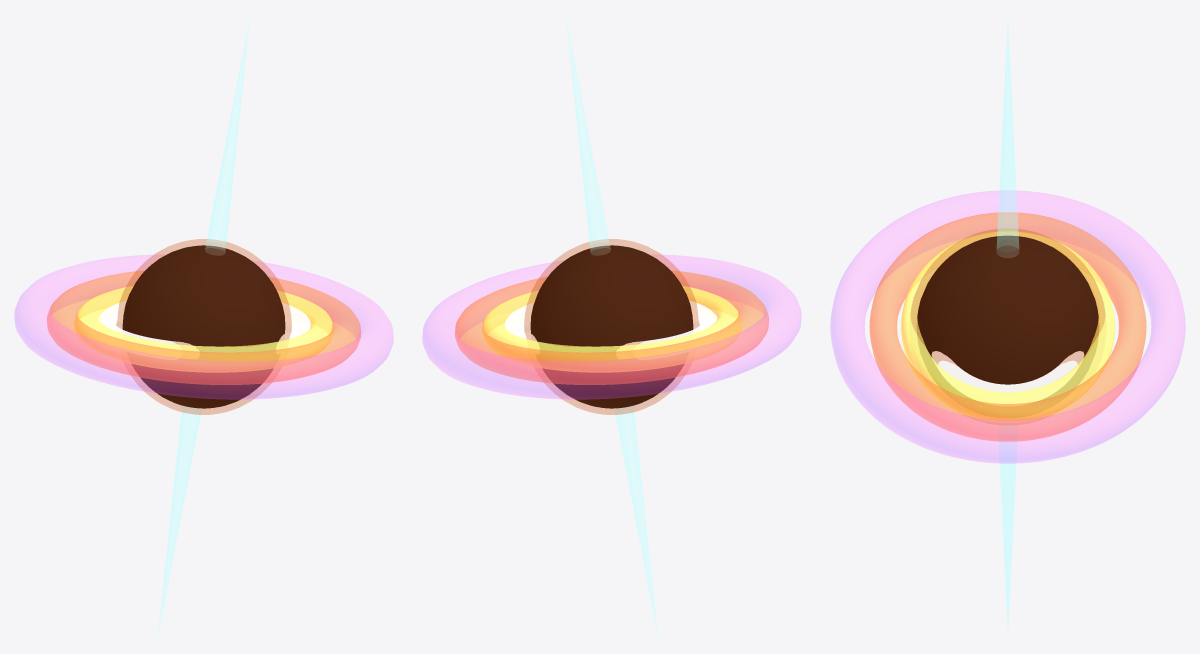
Rendered from blackhole.glb.
The picture shows the model from 3 angles, left to right: view 1: azimuth 30°, elevation 25°; view 2: azimuth 150°, elevation 25°; view 3: azimuth 270°, elevation 25°; orthographic projection. The views are drawn at different scales.
Visible parts, largest first — view 1: Accretion_Ring_4, Photon_Sphere, Event_Horizon, Accretion_Ring_3, Accretion_Ring_2, North_Energy_Jet, South_Energy_Jet, Accretion_Ring_1; view 2: Accretion_Ring_4, Photon_Sphere, Event_Horizon, Accretion_Ring_3, Accretion_Ring_2, North_Energy_Jet, South_Energy_Jet, Accretion_Ring_1; view 3: Accretion_Ring_4, Photon_Sphere, Accretion_Ring_3, Event_Horizon, Accretion_Ring_2, Accretion_Ring_1, North_Energy_Jet, South_Energy_Jet.
Boxes of the visible parts, x1,y1,x2,y2 form: Accretion_Ring_4: [14, 255, 393, 399]; Photon_Sphere: [116, 239, 291, 414]; Event_Horizon: [122, 245, 285, 408]; Accretion_Ring_3: [47, 270, 360, 384]; Accretion_Ring_2: [74, 286, 333, 372]; North_Energy_Jet: [205, 19, 249, 251]; South_Energy_Jet: [158, 406, 201, 634]; Accretion_Ring_1: [97, 300, 310, 349]; Accretion_Ring_4: [422, 255, 801, 399]; Photon_Sphere: [524, 239, 699, 414]; Event_Horizon: [530, 245, 693, 408]; Accretion_Ring_3: [455, 270, 768, 384]; Accretion_Ring_2: [482, 286, 741, 372]; North_Energy_Jet: [566, 19, 610, 251]; South_Energy_Jet: [614, 406, 657, 634]; Accretion_Ring_1: [505, 300, 718, 349]; Accretion_Ring_4: [830, 191, 1185, 463]; Photon_Sphere: [910, 229, 1105, 384]; Accretion_Ring_3: [869, 212, 1146, 441]; Event_Horizon: [917, 236, 1098, 384]; Accretion_Ring_2: [901, 231, 1114, 422]; Accretion_Ring_1: [931, 351, 1084, 403]; North_Energy_Jet: [997, 24, 1018, 251]; South_Energy_Jet: [998, 441, 1017, 629].
Bounding box in the file's own units: 7.33 × 12.24 × 5.82.
